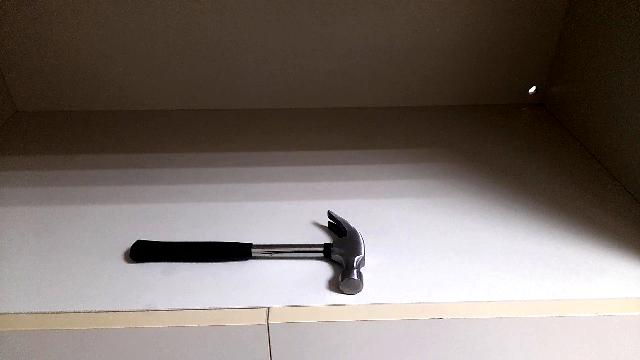hammer: (104, 199, 382, 303)
